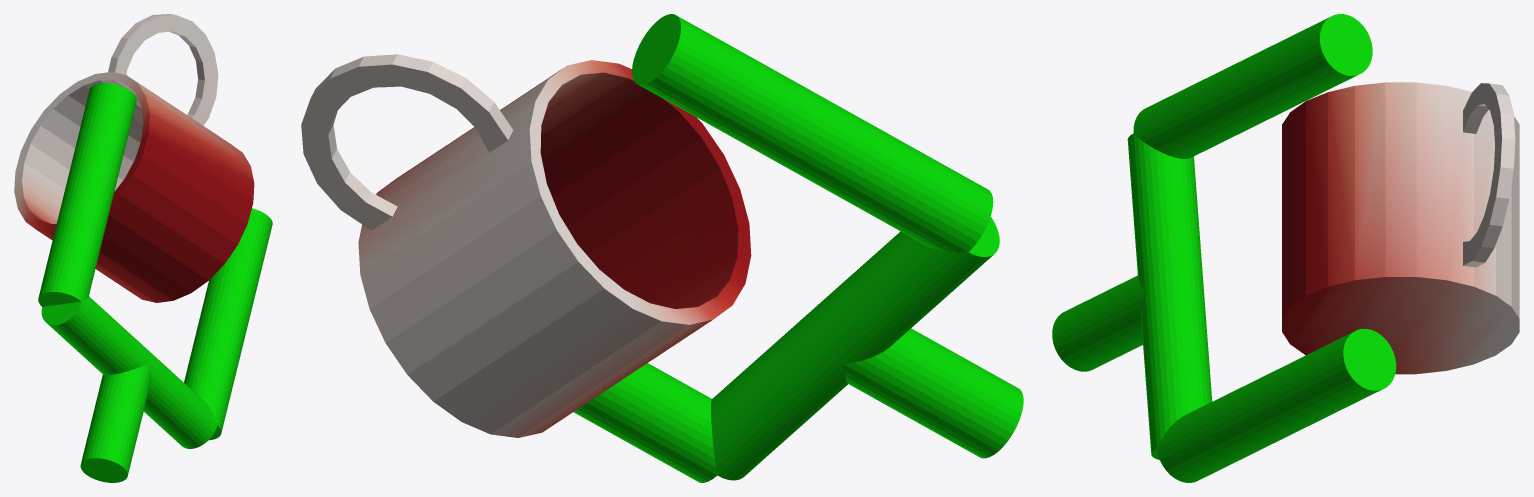
The model's file is round_000_trial_000.obj.
The picture shows the model from 3 angles, left to right: view 1: azimuth 30°, elevation 25°; view 2: azimuth 150°, elevation 25°; view 3: azimuth 270°, elevation 25°; orthographic projection. The views are drawn at different scales.
Visible parts, largest first — view 1: geometry_0, geometry_1; view 2: geometry_0, geometry_1; view 3: geometry_0, geometry_1.
Boxes of the visible parts, x1,y1,x2,y2 form: geometry_0: (14,14,254,302); geometry_1: (38,83,272,482); geometry_0: (301,54,751,437); geometry_1: (573,14,1023,482); geometry_0: (1282,82,1519,374); geometry_1: (1052,14,1396,482).
Size of the model in its own units: 0.0713 by 0.0748 by 0.0721.
